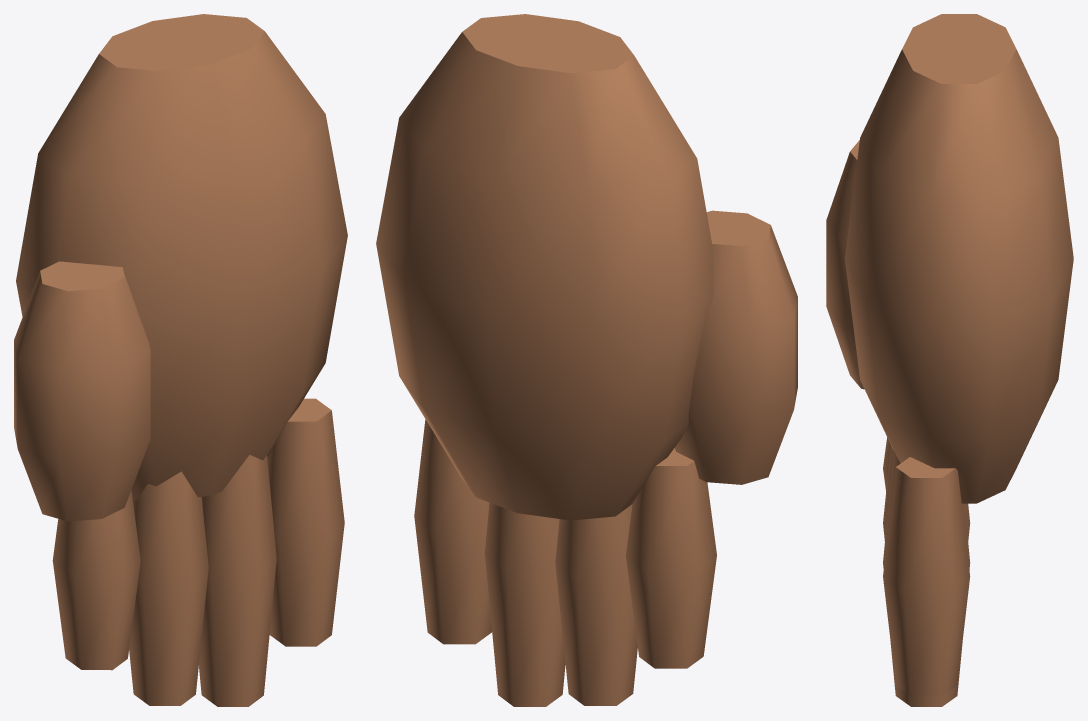
File: mano_izq.obj
The picture shows the model from 3 angles, left to right: view 1: azimuth 30°, elevation 25°; view 2: azimuth 150°, elevation 25°; view 3: azimuth 270°, elevation 25°; orthographic projection. The views are drawn at different scales.
Parts seen in each view (by area): view 1: mano_izq; view 2: mano_izq; view 3: mano_izq.
Boxes of the visible parts, x1,y1,x2,y2 form: mano_izq: [14, 14, 347, 706]; mano_izq: [376, 14, 797, 706]; mano_izq: [826, 14, 1073, 706].
Bounding box in the file's own units: 0.0717 × 0.1276 × 0.0454.
